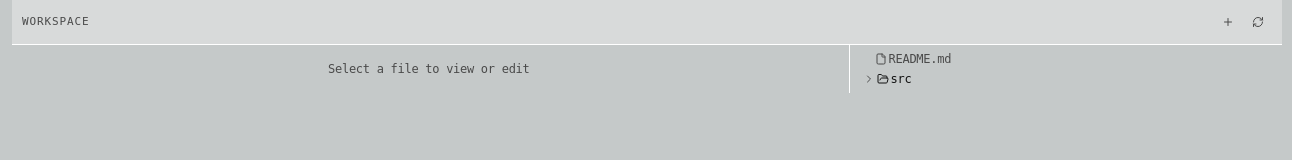
WorkspacePanel interactions › abandons an edit without saving
The width and height of the screenshot is (1292, 160).
Click the button "README.md" at (920, 59), box [857,49,1278,69]
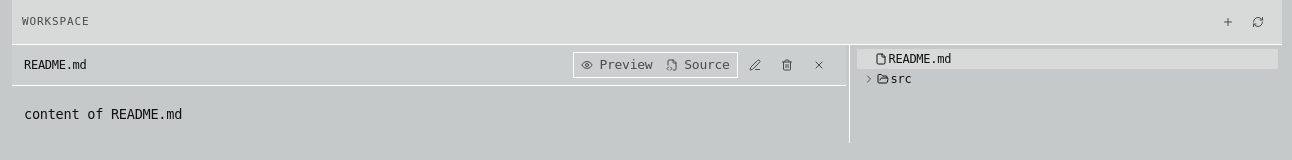
Expected: the text "content of README.md" is shown, [24,106,182,122]
Click the button named "Edit file" at (755, 65), box [740,51,770,79]
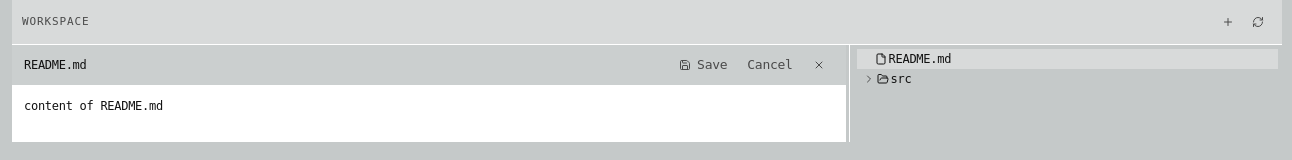
Replace the text in the text box with "scratch" at (429, 114), box [12,86,846,142]
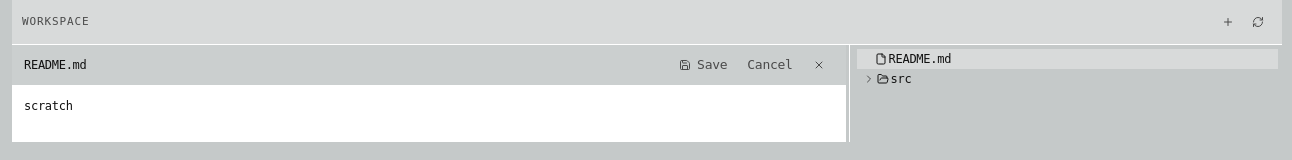
Click the button "Cancel" at (770, 65), box [738,51,802,79]
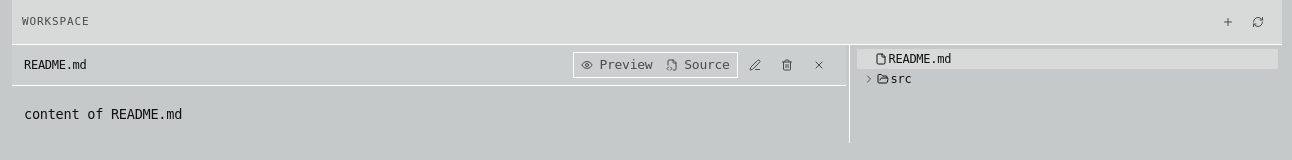
Expected: the text "content of README.md" is shown, [24,106,182,122]
Expected: the text box is gone
